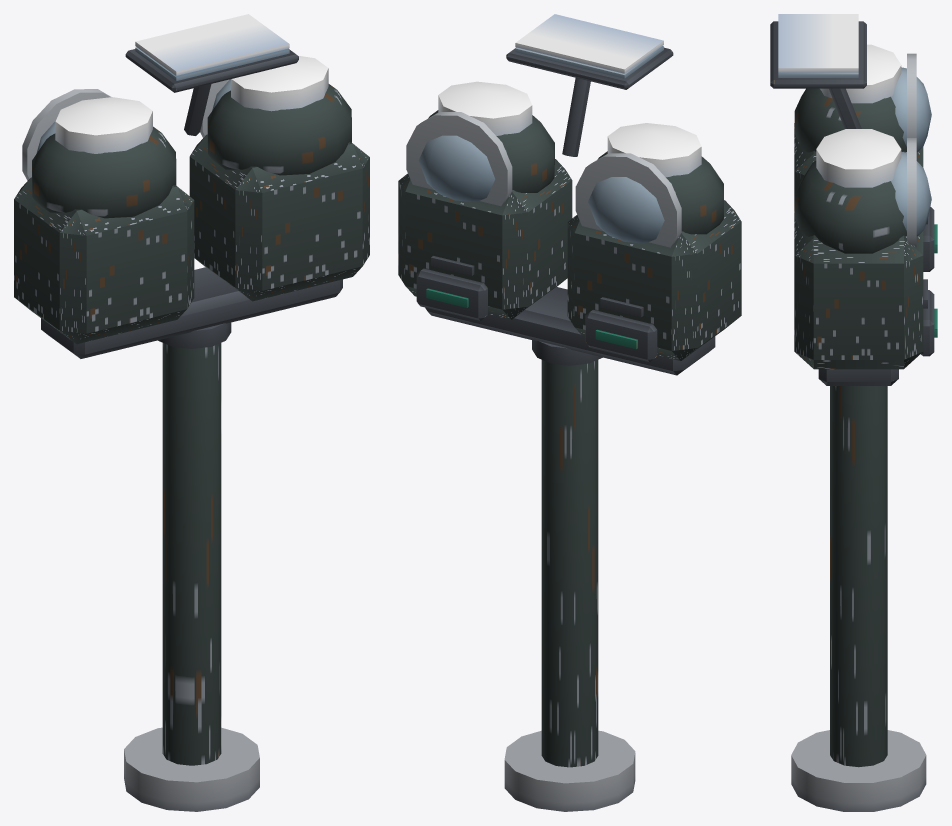
File: ck_parking_meter.fbx
3 renders of one model, left to right at view 1: azimuth 30°, elevation 25°; view 2: azimuth 150°, elevation 25°; view 3: azimuth 270°, elevation 25°, orthographic. The views are drawn at different scales.
Visible parts, largest first — view 1: ck_parking_meter; view 2: ck_parking_meter; view 3: ck_parking_meter.
Part boxes in pixels (bbox=[...]): ck_parking_meter: bbox=[14, 14, 369, 811]; ck_parking_meter: bbox=[398, 14, 741, 811]; ck_parking_meter: bbox=[770, 14, 937, 811].
Bounding box in the file's own units: 219 × 510 × 104.
